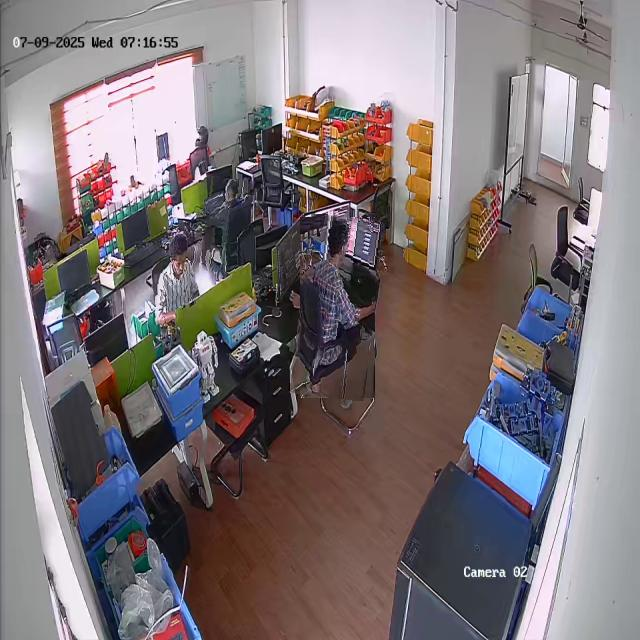person: (295, 215, 380, 400), (150, 230, 200, 328), (202, 177, 252, 274)
